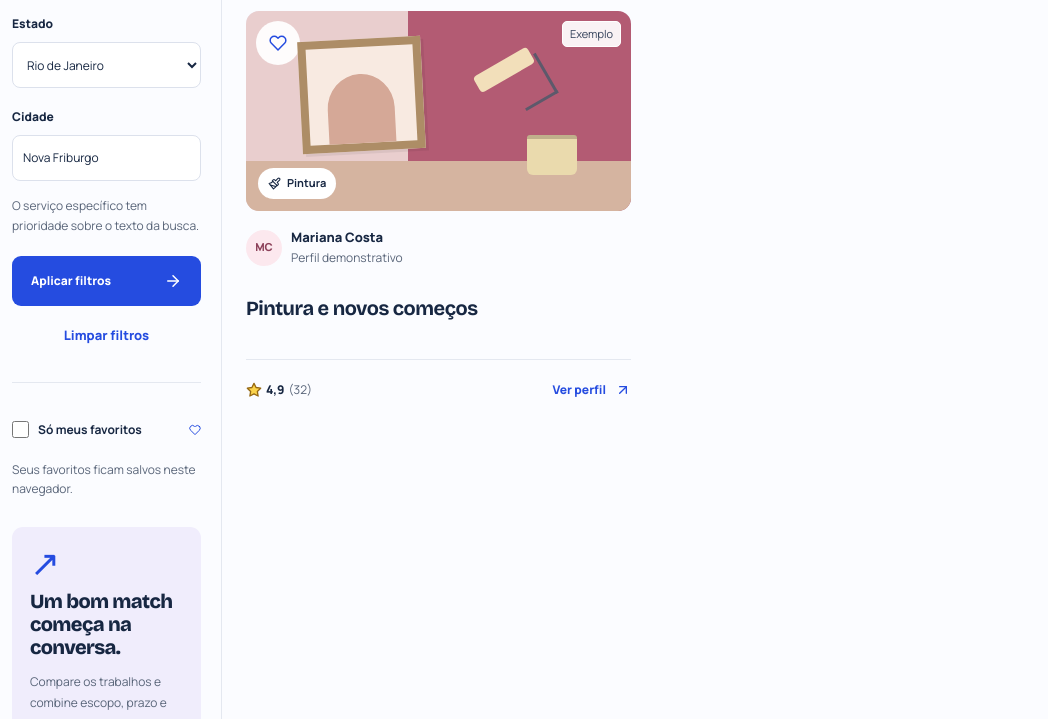
it: filtros do endereço limitam os exemplos e limpar recupera a vitrine
(page scrolled)
Check: the heading "Mariana Costa" is shown, box [291,228,383,246]
Step 1. Click the button "Limpar filtros" → (106, 336), box [12,314,201,358]
(page scrolled)
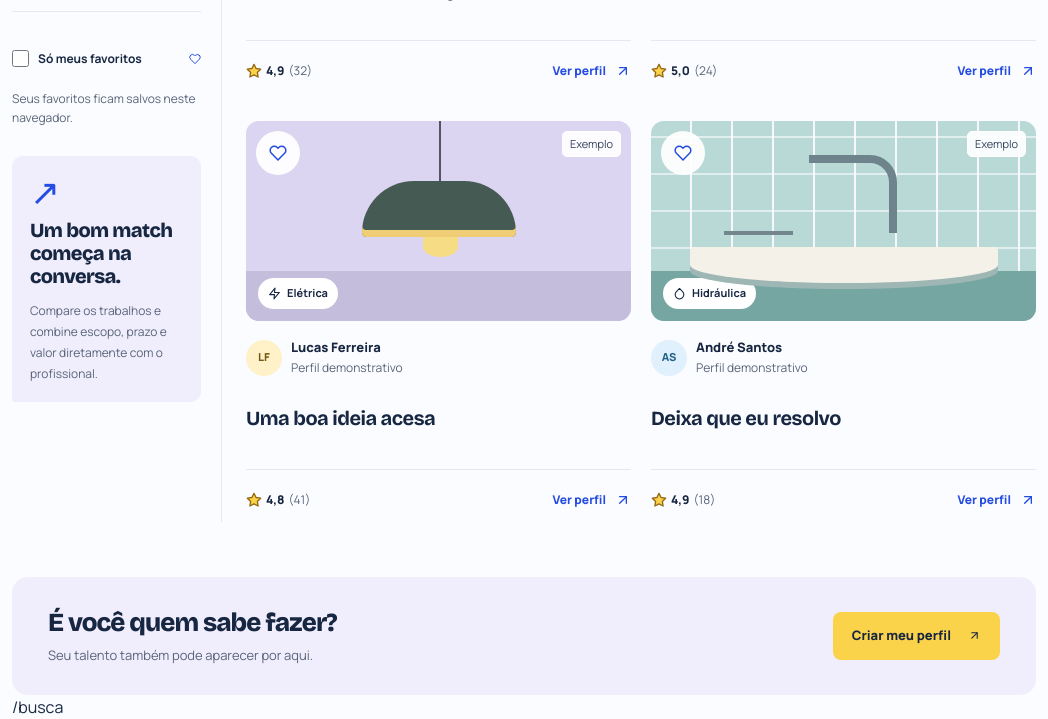
Check: the text with test id "location" reads "/busca", box [12,696,63,718]
